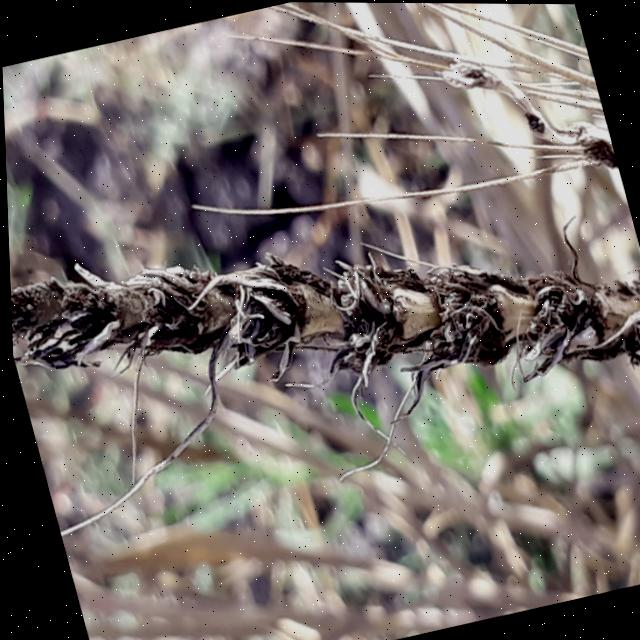loose_charred: (1, 45, 640, 550)
